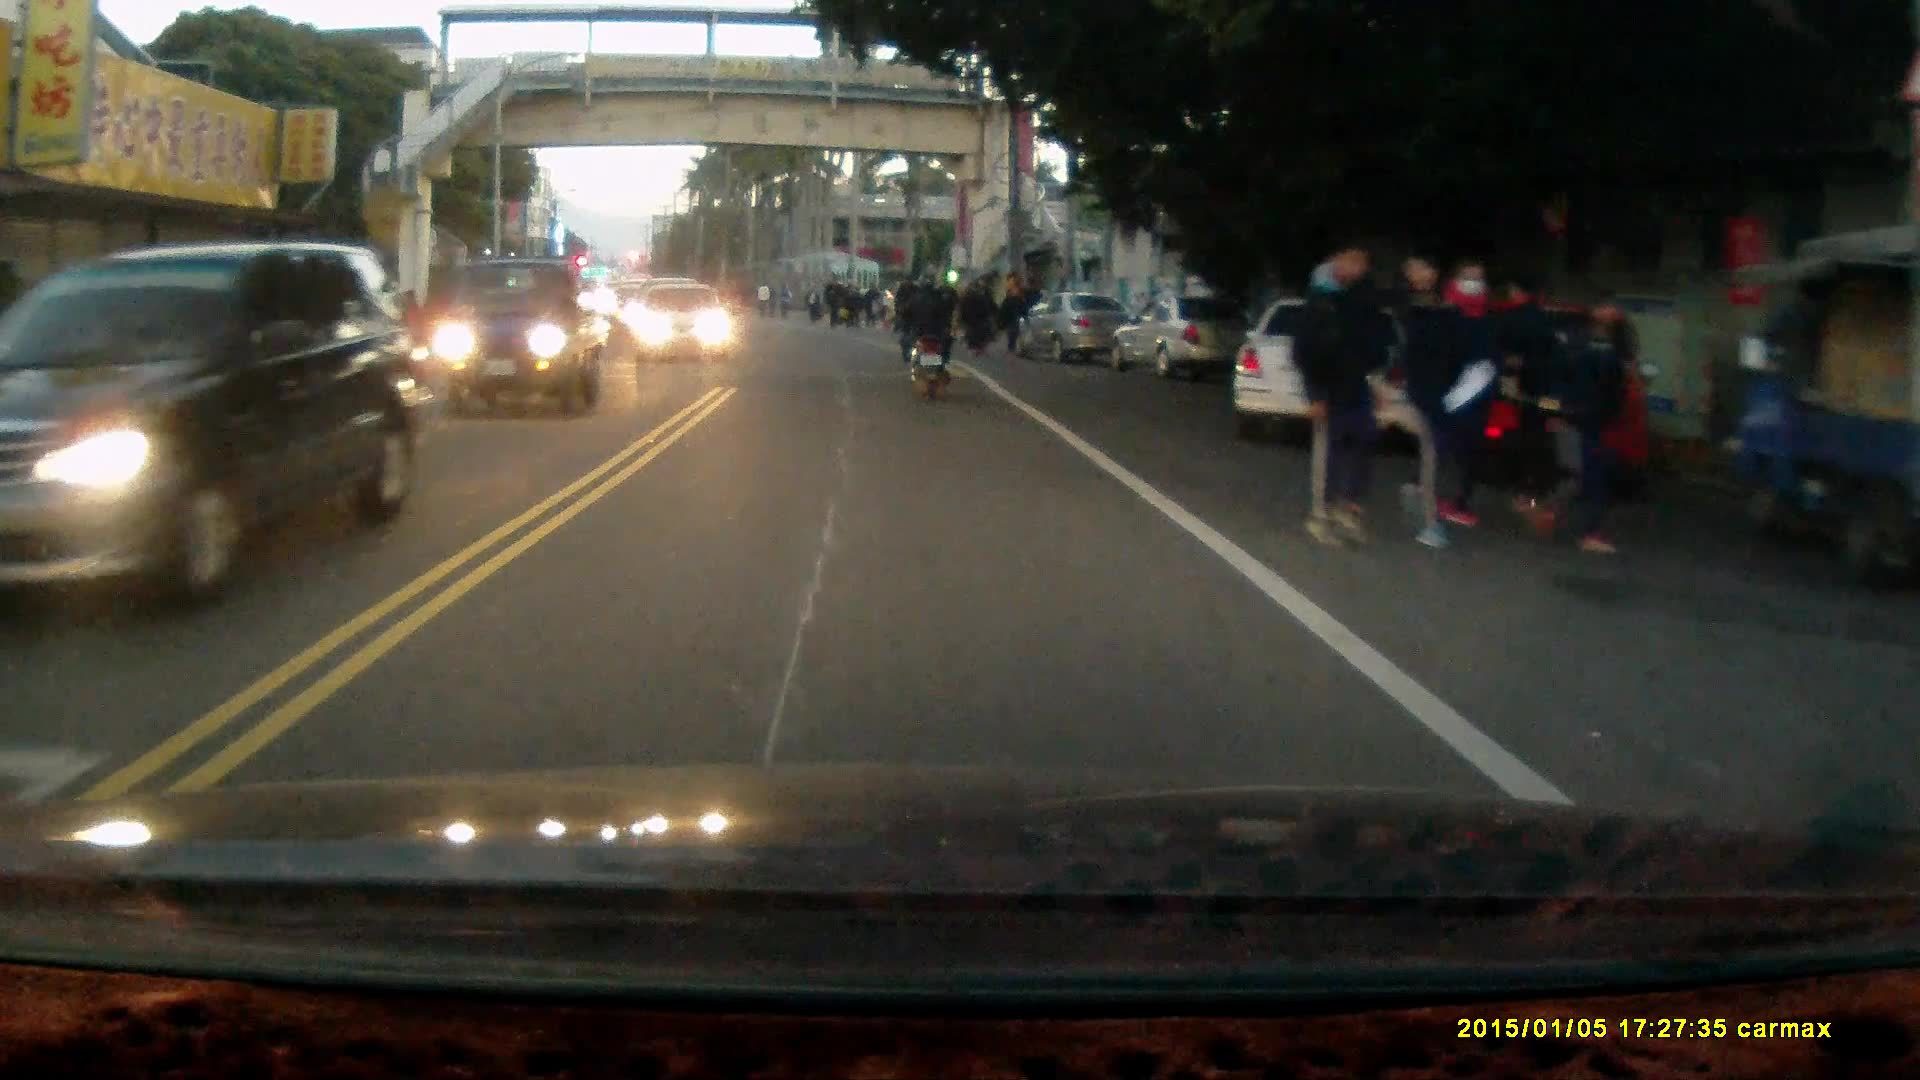pedestrian: (1286, 228, 1395, 555), (1392, 244, 1502, 551), (1480, 272, 1573, 526), (1546, 284, 1630, 558), (1427, 257, 1511, 528), (968, 267, 997, 352), (960, 276, 986, 356), (997, 281, 1025, 352)
rider: (888, 266, 955, 398)
vehicle: (1, 243, 426, 610), (1394, 286, 1654, 499), (1230, 286, 1449, 439), (440, 262, 607, 418), (1116, 288, 1244, 378), (1015, 290, 1140, 362), (636, 282, 734, 362)
